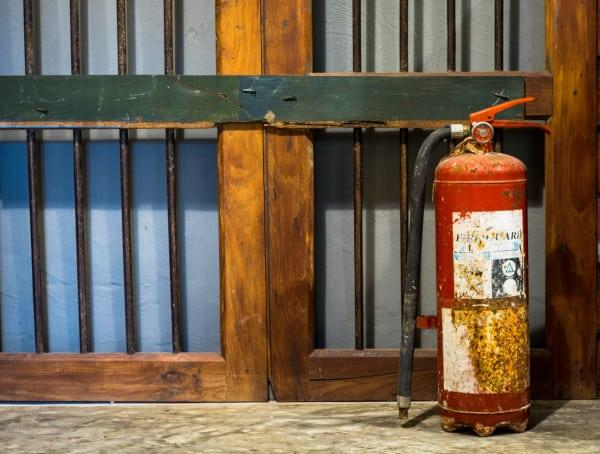floor-kept: (349, 79, 571, 442)
